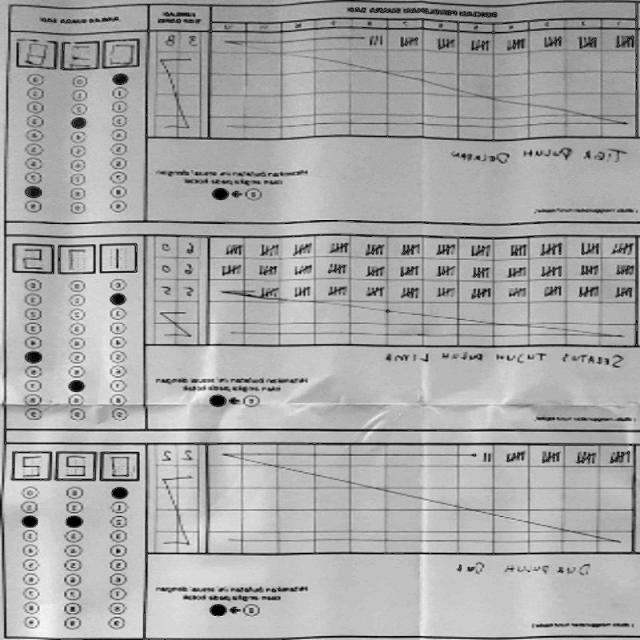Suara: (11, 237, 144, 270), (14, 449, 144, 482), (18, 35, 144, 67)
